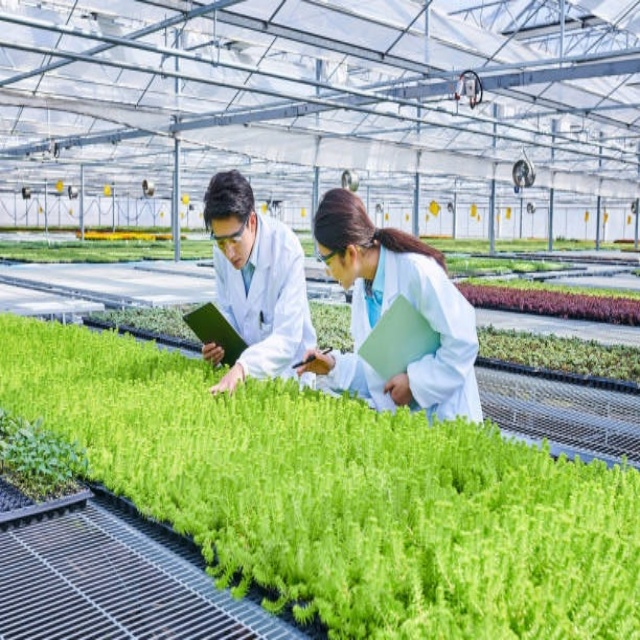Gafas: (210, 215, 249, 246), (316, 242, 348, 266)
Sin_guantes: (207, 363, 245, 399), (296, 349, 334, 377), (384, 371, 413, 407), (202, 340, 226, 368)
Sin_mascara: (227, 253, 245, 270)
